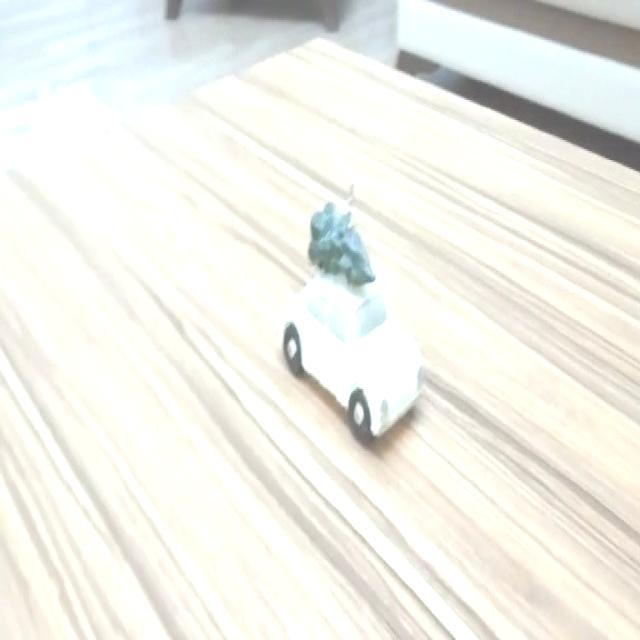car: (278, 279, 424, 432)
